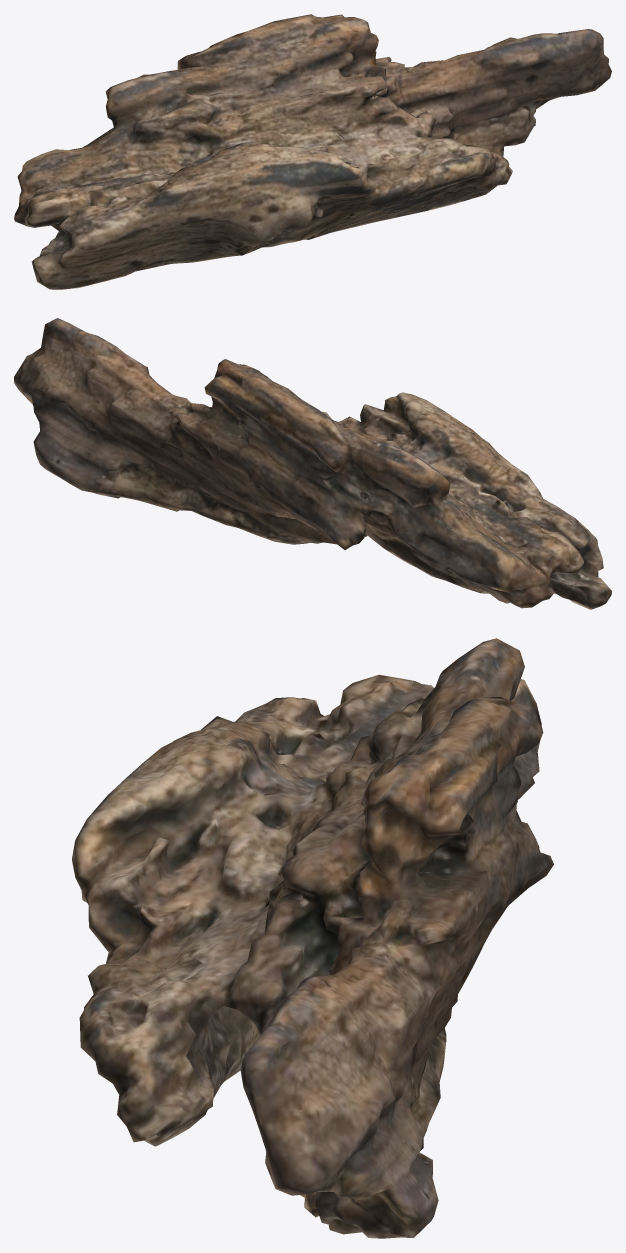
Rendered from scan_driftwood.glb.
The picture shows the model from 3 angles, top to bottom: view 1: azimuth 30°, elevation 25°; view 2: azimuth 150°, elevation 25°; view 3: azimuth 270°, elevation 25°; orthographic projection. The views are drawn at different scales.
Parts seen in each view (by area): view 1: scan_driftwood; view 2: scan_driftwood; view 3: scan_driftwood.
Boxes of the visible parts, x1,y1,x2,y2 form: scan_driftwood: (14, 14, 611, 289); scan_driftwood: (14, 318, 611, 609); scan_driftwood: (72, 638, 553, 1238).
Size of the model in its own units: 3.2 by 0.9518 by 1.17.
1 material, 1 textured.
